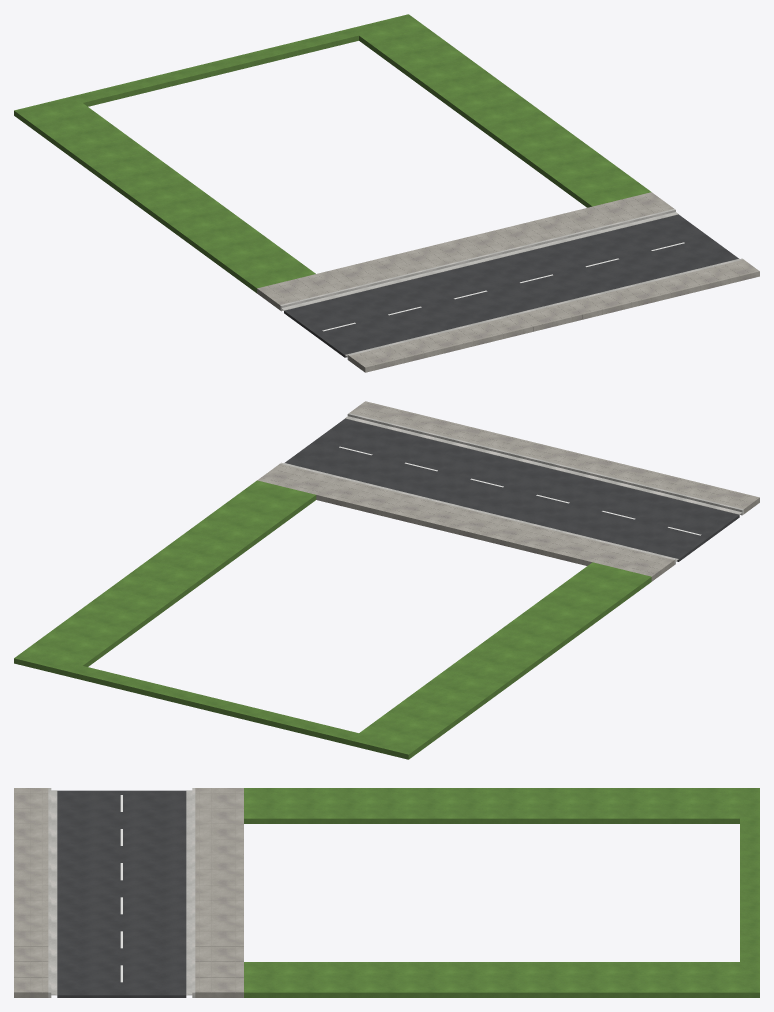
The model's file is street.glb.
3 views of the same model, one above another, from view 1: azimuth 30°, elevation 25°; view 2: azimuth 150°, elevation 25°; view 3: azimuth 270°, elevation 25° (orthographic). The views are drawn at different scales.
Parts seen in each view (by area): view 1: street_lawn, street_asphalt, street_conc_s, street_curb, street_conc_r; view 2: street_lawn, street_asphalt, street_conc_s, street_curb, street_conc_r; view 3: street_lawn, street_asphalt, street_conc_s, street_curb, street_conc_r.
Part boxes in pixels (bbox=[...]): street_lawn: bbox=[14, 14, 651, 293]; street_asphalt: bbox=[284, 214, 738, 357]; street_conc_s: bbox=[257, 192, 759, 372]; street_curb: bbox=[280, 209, 743, 360]; street_conc_r: bbox=[257, 196, 750, 372]; street_lawn: bbox=[14, 480, 651, 759]; street_asphalt: bbox=[285, 419, 739, 561]; street_conc_s: bbox=[257, 401, 759, 576]; street_curb: bbox=[280, 413, 743, 564]; street_conc_r: bbox=[267, 407, 759, 581]; street_lawn: bbox=[244, 788, 759, 997]; street_asphalt: bbox=[57, 790, 186, 997]; street_conc_s: bbox=[14, 788, 243, 997]; street_curb: bbox=[48, 788, 195, 997]; street_conc_r: bbox=[14, 788, 243, 997].
Size of the model in its own units: 24 by 0.3 by 37.
7 materials, 6 textured.
